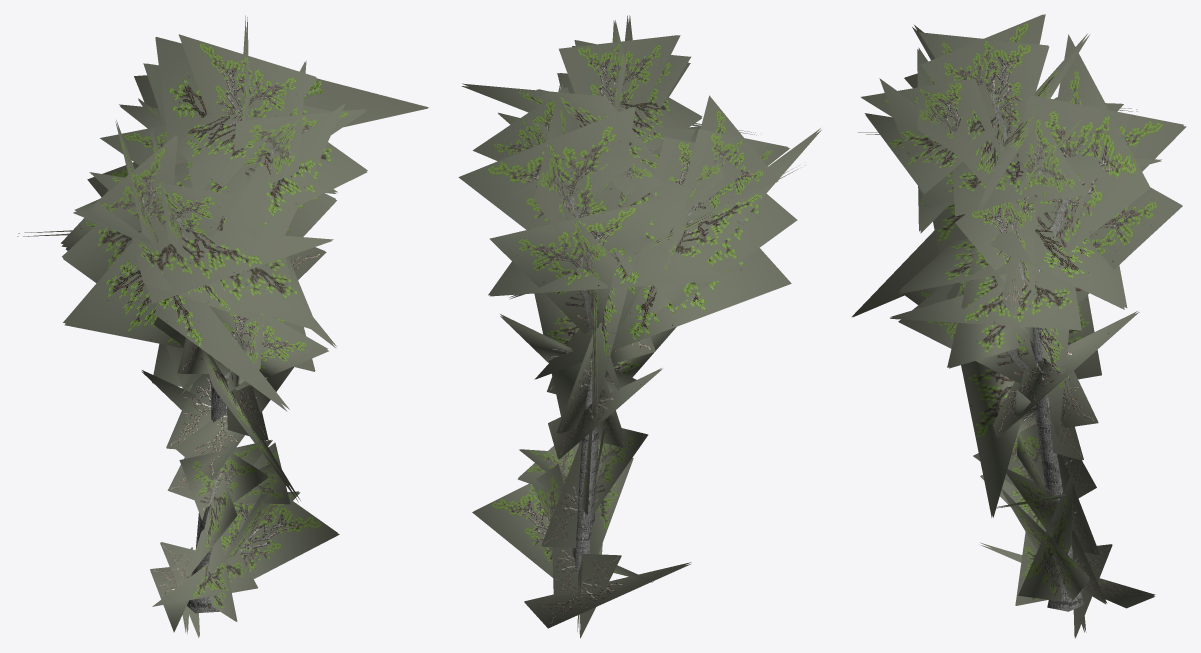
The model's file is elm-2.glb.
The picture shows the model from 3 angles, left to right: view 1: azimuth 30°, elevation 25°; view 2: azimuth 150°, elevation 25°; view 3: azimuth 270°, elevation 25°; orthographic projection. The views are drawn at different scales.
Parts seen in each view (by area): view 1: elm-2; view 2: elm-2; view 3: elm-2.
Boxes of the visible parts, x1,y1,x2,y2 form: elm-2: (17,15,428,637); elm-2: (458,15,821,638); elm-2: (852,14,1186,638).
Bounding box in the file's own units: 11.08 × 17.95 × 8.97.
1 material, 1 textured.
